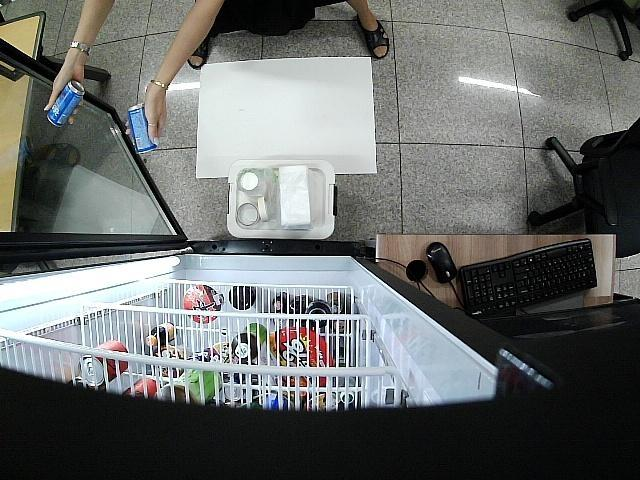15_letsbe: (46, 82, 84, 130), (128, 103, 158, 154)
